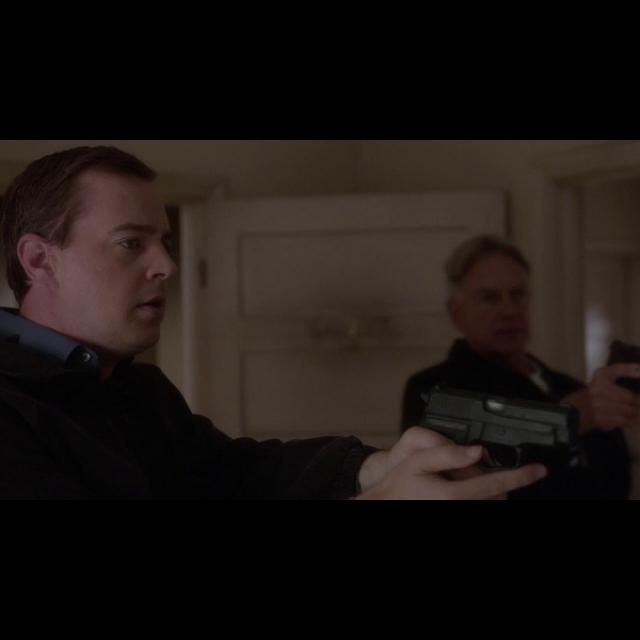handgun: (416, 379, 582, 475)
